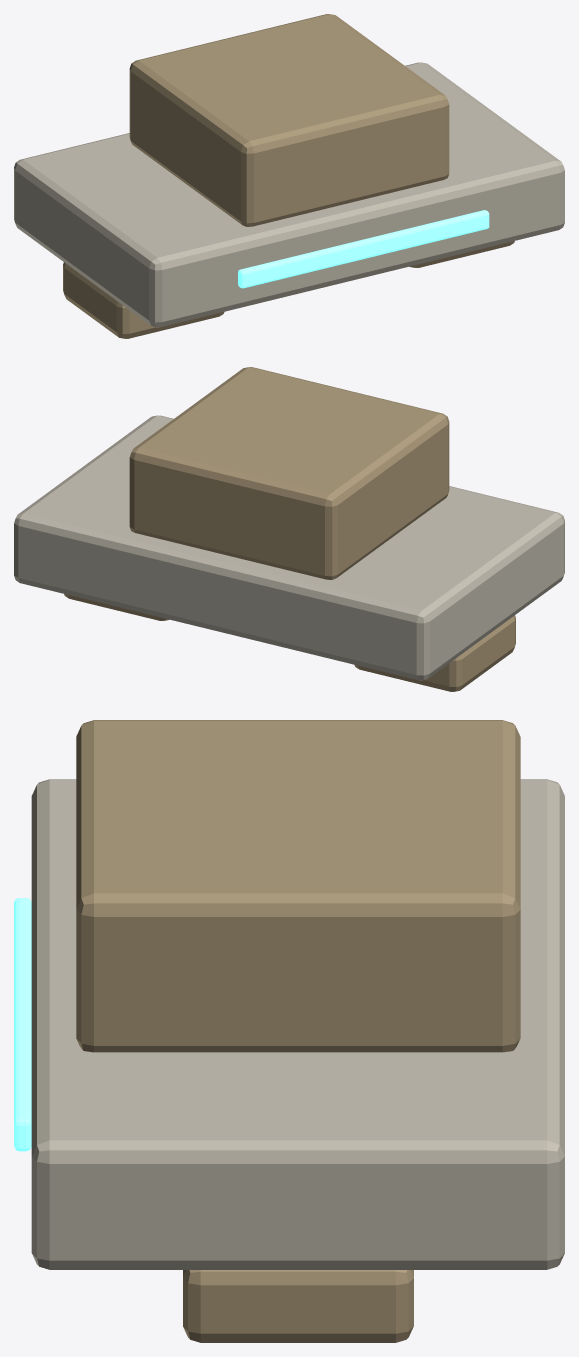
The model's file is Hip.glb.
3 renders of one model, top to bottom at view 1: azimuth 30°, elevation 25°; view 2: azimuth 150°, elevation 25°; view 3: azimuth 270°, elevation 25°, orthographic. The views are drawn at different scales.
Parts seen in each view (by area): view 1: PART_Hip.010; view 2: PART_Hip.010; view 3: PART_Hip.010.
Part boxes in pixels (box(x1,y1,x2,y2)): PART_Hip.010: box(14, 14, 564, 338); PART_Hip.010: box(14, 367, 564, 691); PART_Hip.010: box(14, 720, 564, 1342).
Size of the model in its own units: 1 by 0.45 by 0.62.
